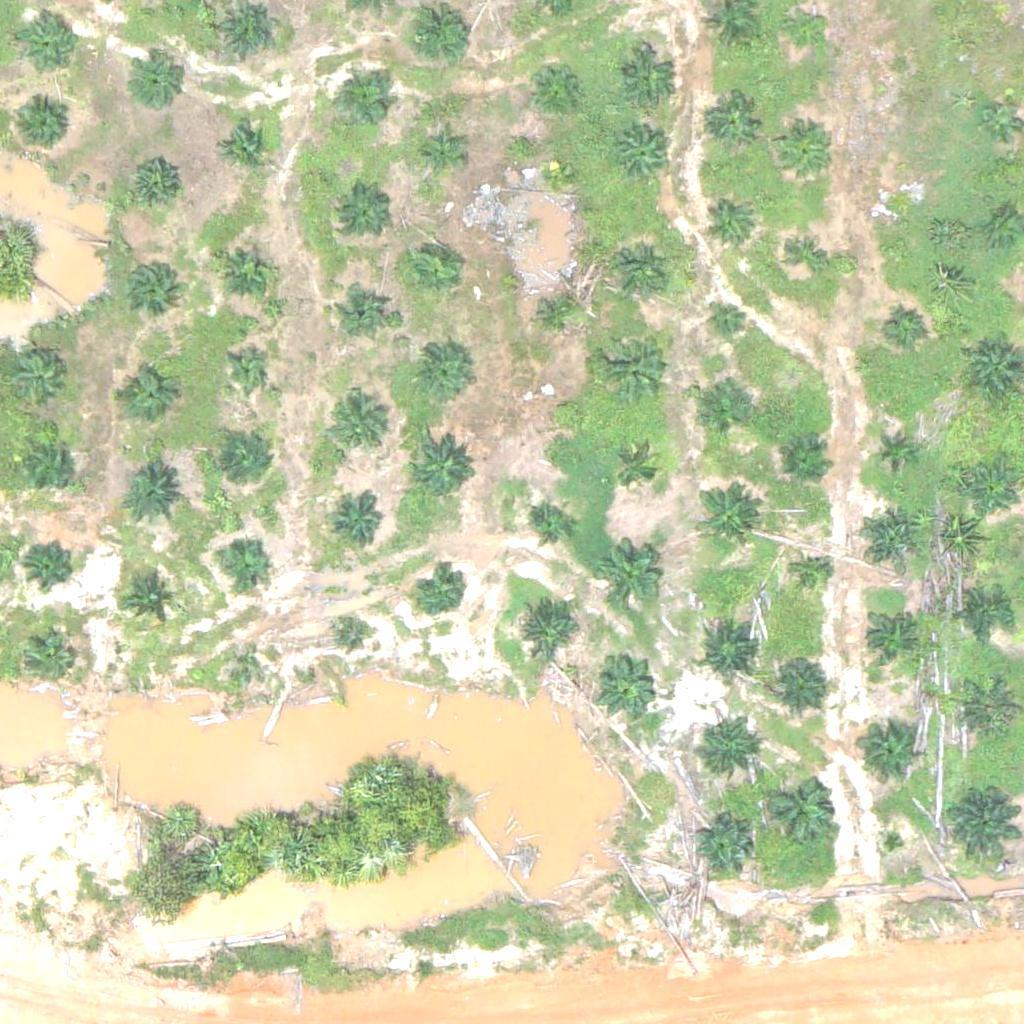Kelapa_Sawit: (598, 323, 673, 399), (945, 785, 1020, 861), (759, 772, 834, 848), (858, 502, 921, 565), (595, 543, 658, 606), (617, 48, 680, 111), (120, 466, 183, 529), (692, 720, 755, 783), (591, 652, 654, 715), (859, 721, 922, 784), (691, 817, 754, 880), (694, 484, 756, 547), (411, 432, 473, 495), (329, 395, 391, 458), (609, 240, 671, 303), (408, 342, 470, 405), (11, 95, 73, 158), (215, 237, 277, 300), (15, 13, 77, 76), (958, 680, 1020, 743), (514, 597, 576, 660), (614, 127, 676, 189), (699, 622, 761, 684), (766, 650, 828, 712), (964, 467, 1014, 518), (218, 533, 268, 584), (222, 434, 272, 485), (120, 371, 170, 422), (131, 57, 181, 108), (14, 356, 64, 407), (25, 439, 75, 490), (25, 537, 75, 588), (125, 576, 175, 627), (128, 158, 178, 209), (219, 122, 269, 173), (959, 589, 1009, 639), (333, 499, 383, 549), (414, 566, 464, 616), (340, 283, 390, 333), (343, 77, 393, 127), (339, 187, 389, 237), (529, 60, 579, 110), (710, 95, 760, 145), (780, 127, 830, 177), (693, 390, 743, 440), (406, 243, 456, 293), (125, 261, 175, 311), (863, 612, 913, 662), (779, 437, 829, 487), (610, 446, 660, 496), (525, 503, 575, 553), (533, 286, 583, 336), (27, 638, 77, 688), (705, 199, 755, 249), (421, 133, 459, 171), (795, 558, 833, 596), (708, 301, 746, 339), (785, 12, 823, 50), (883, 195, 921, 233), (789, 237, 827, 275), (874, 433, 911, 471), (888, 309, 926, 346), (228, 350, 265, 388), (983, 99, 1020, 136), (339, 619, 364, 644), (542, 161, 567, 186), (549, 396, 574, 421), (244, 653, 269, 678)
